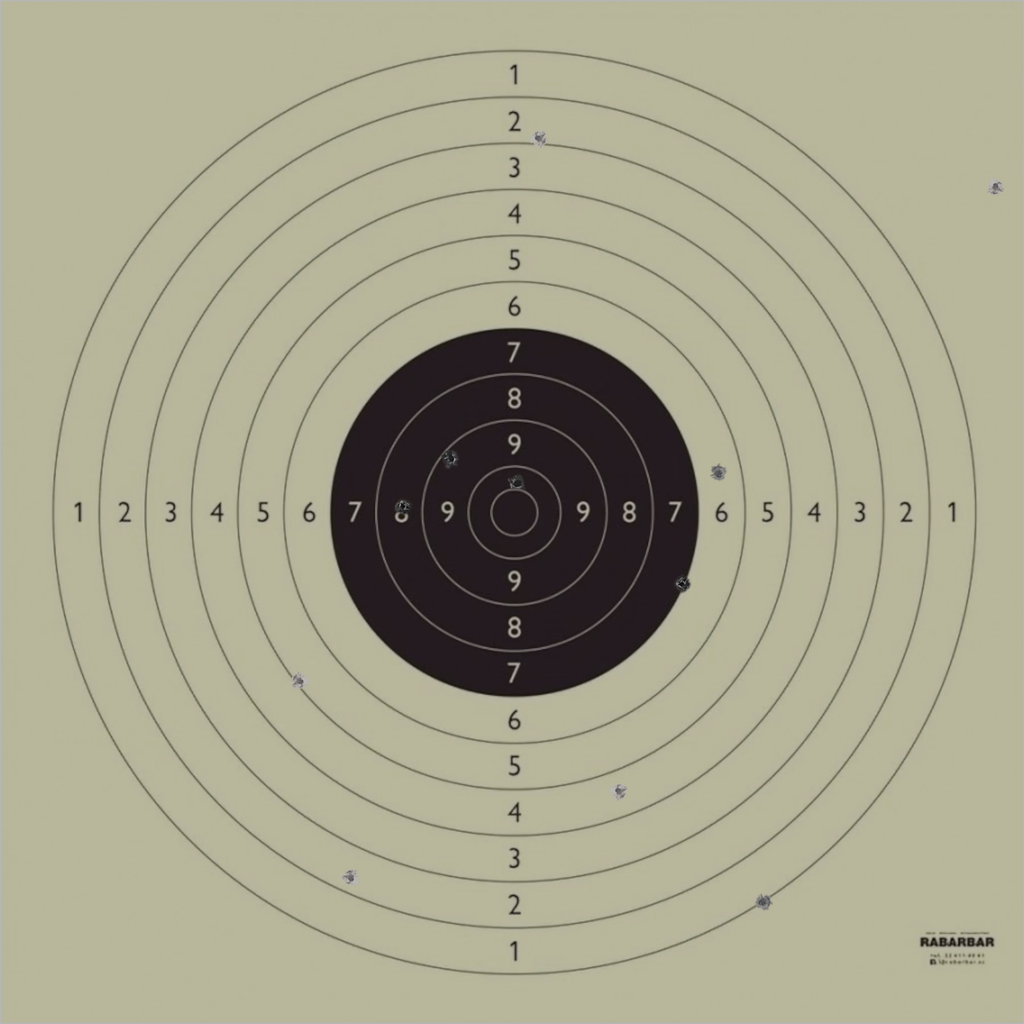0 punktow: (986, 178, 1005, 196)
1 punkt: (754, 893, 772, 911)
10 punktow: (508, 474, 526, 493)
2 punkty: (342, 869, 360, 887)
3 punkty: (529, 129, 548, 148)
4 punkty: (610, 782, 628, 800)
5 punktow: (291, 672, 309, 690)
6 punktow: (709, 464, 728, 483)
7 punktow: (672, 575, 691, 593)
8 punktow: (394, 497, 412, 515)
9 punktow: (442, 450, 460, 468)
